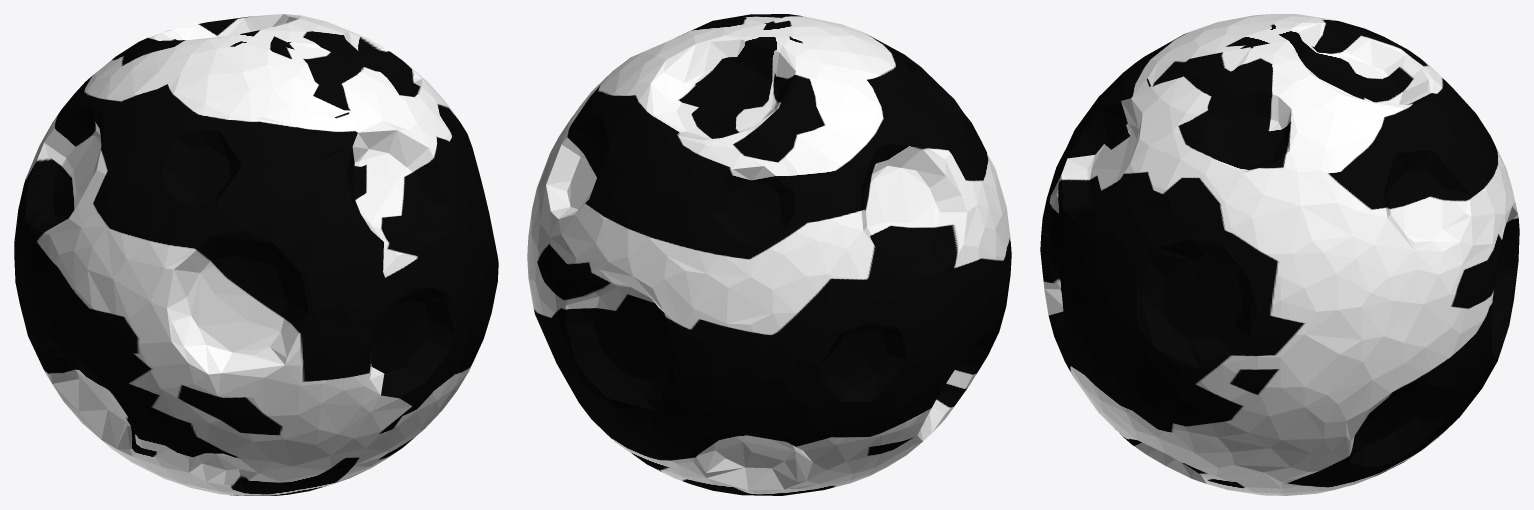
File: SM_Env_Asteroid_Round_01.fbx
The picture shows the model from 3 angles, left to right: view 1: azimuth 30°, elevation 25°; view 2: azimuth 150°, elevation 25°; view 3: azimuth 270°, elevation 25°; orthographic projection.
Parts seen in each view (by area): view 1: SM_Env_Asteroid_Round_01_LOD0; view 2: SM_Env_Asteroid_Round_01_LOD0; view 3: SM_Env_Asteroid_Round_01_LOD0.
Boxes of the visible parts, box(x1,y1,x2,y2) form: SM_Env_Asteroid_Round_01_LOD0: box(14, 14, 498, 495); SM_Env_Asteroid_Round_01_LOD0: box(527, 14, 1011, 495); SM_Env_Asteroid_Round_01_LOD0: box(1040, 14, 1519, 495).
Bounding box in the file's own units: 24730 × 24907 × 24803.
1 material, 1 textured.
